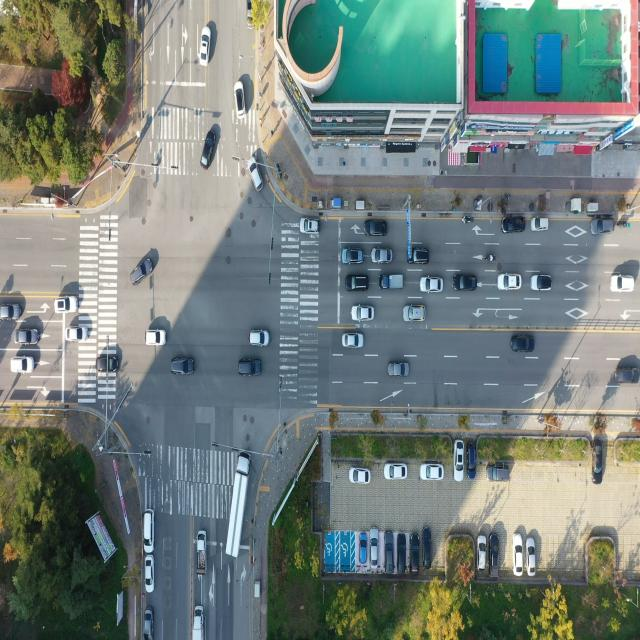car: (132, 259, 154, 288), (201, 129, 216, 168), (248, 158, 263, 191), (143, 508, 154, 552), (491, 534, 502, 578), (594, 440, 605, 480), (422, 526, 432, 570), (617, 366, 640, 385), (10, 356, 34, 374), (487, 464, 511, 482), (502, 216, 526, 234), (97, 356, 121, 374), (236, 81, 247, 119), (172, 357, 195, 375), (455, 441, 465, 482), (396, 534, 406, 575), (612, 276, 636, 293), (56, 298, 80, 315), (15, 331, 39, 348), (592, 218, 616, 235), (514, 534, 524, 574), (412, 532, 422, 572), (0, 305, 22, 323), (466, 443, 477, 479), (384, 463, 407, 480), (421, 463, 444, 480), (239, 359, 262, 376), (201, 29, 211, 68), (526, 536, 536, 575), (454, 276, 478, 292), (530, 539, 540, 577), (342, 248, 364, 265), (364, 220, 386, 237), (346, 276, 368, 293), (388, 361, 410, 378), (513, 337, 535, 354), (386, 532, 395, 573), (408, 247, 429, 264), (421, 278, 443, 294), (498, 275, 520, 291), (405, 307, 427, 323), (369, 533, 378, 572), (146, 331, 166, 348), (353, 308, 374, 324), (350, 468, 371, 484), (531, 276, 552, 292), (67, 328, 88, 344), (145, 556, 154, 592), (249, 332, 269, 348), (301, 218, 321, 234), (143, 608, 153, 640), (343, 335, 364, 350), (372, 249, 393, 264), (480, 536, 489, 571), (359, 533, 368, 567), (531, 218, 549, 232), (246, 0, 254, 28)
medium_truck: (225, 452, 250, 560)
small_truck: (379, 274, 404, 292), (198, 532, 208, 576), (192, 607, 204, 640)
